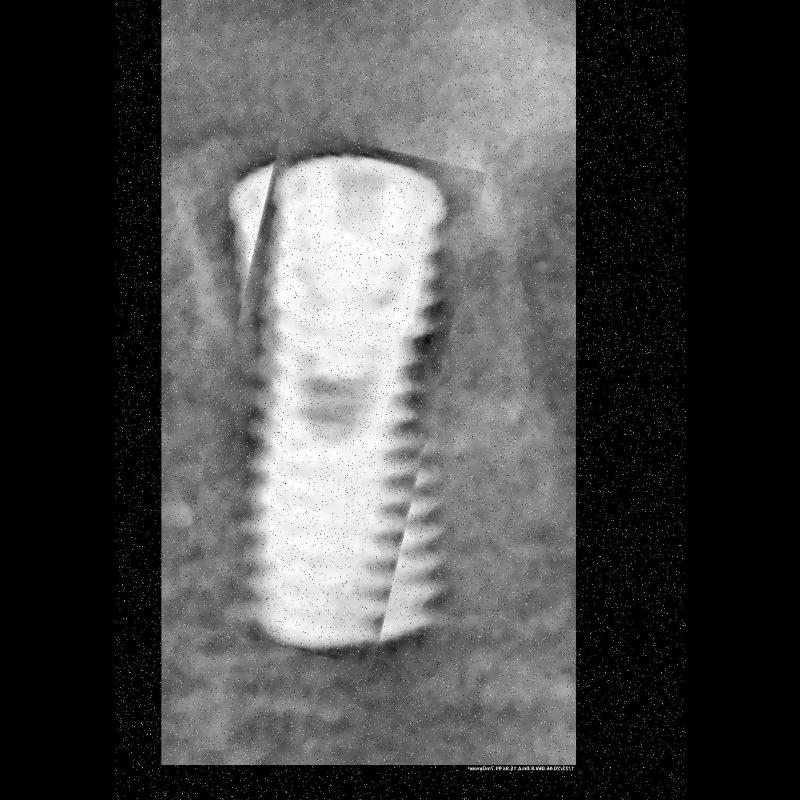osstem: (196, 135, 460, 660)
